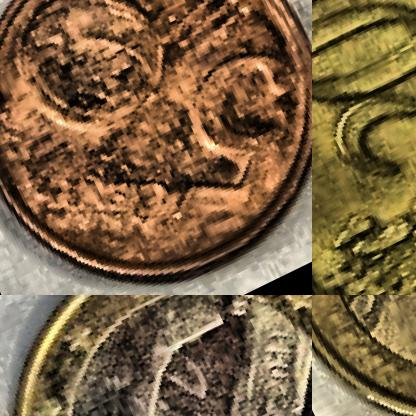coin: (0, 0, 311, 294), (0, 295, 311, 415), (312, 0, 415, 294), (312, 295, 415, 415)
